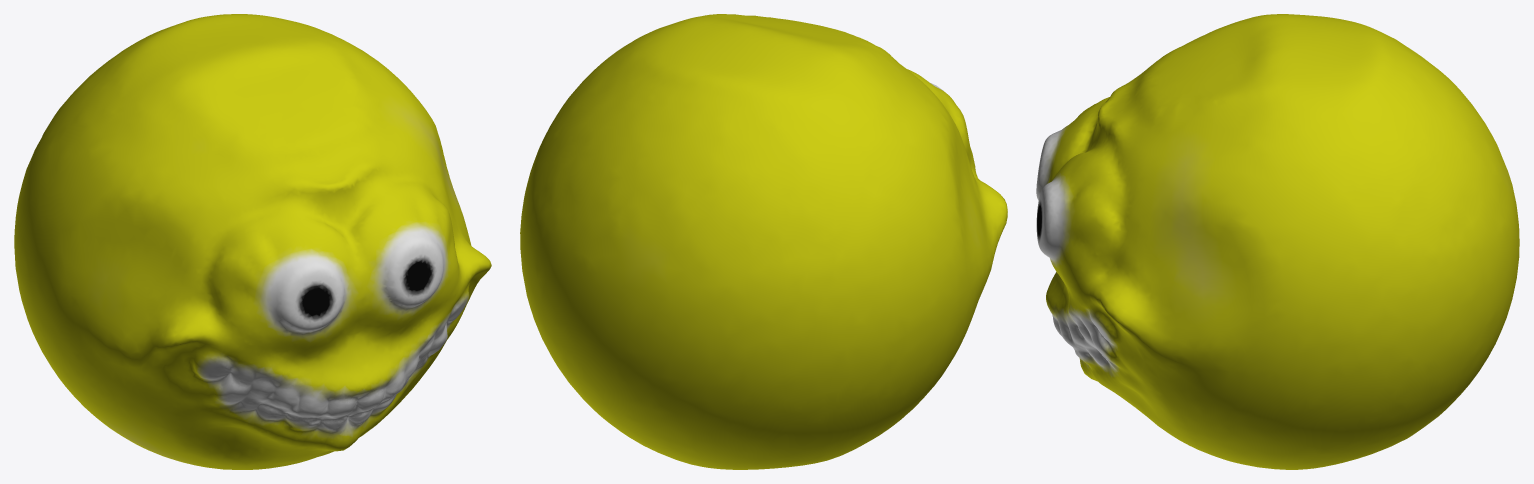
The model's file is jimbo.glb.
The picture shows the model from 3 angles, left to right: view 1: azimuth 30°, elevation 25°; view 2: azimuth 150°, elevation 25°; view 3: azimuth 270°, elevation 25°; orthographic projection. The views are drawn at different scales.
Parts seen in each view (by area): view 1: Object_2; view 2: Object_2; view 3: Object_2.
Boxes of the visible parts, x1,y1,x2,y2 form: Object_2: [14, 14, 491, 469]; Object_2: [520, 14, 1007, 469]; Object_2: [1036, 14, 1519, 469].
Bounding box in the file's own units: 1.36 × 1.33 × 1.44.
